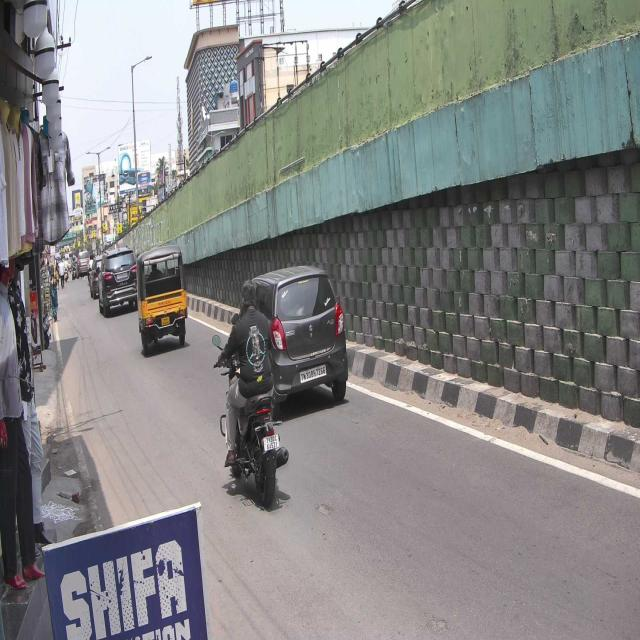single_rider: (212, 275, 292, 511)
